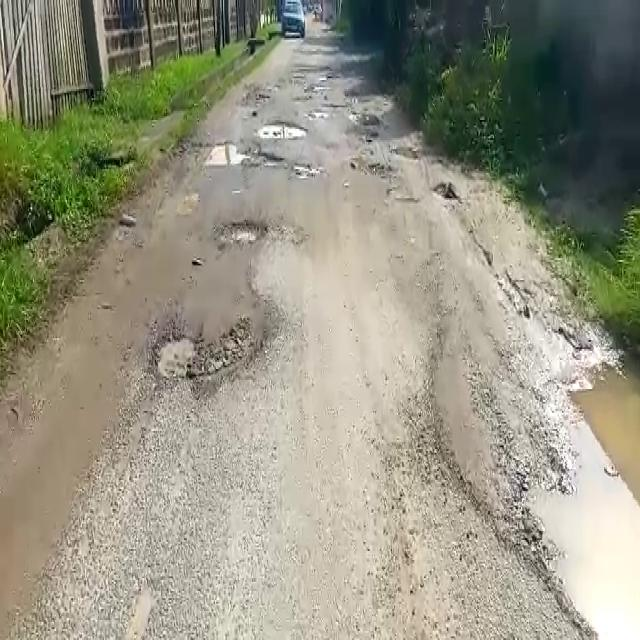Pothole: (524, 353, 639, 639), (142, 318, 254, 384), (190, 140, 254, 167), (215, 219, 268, 247), (258, 122, 307, 140)
